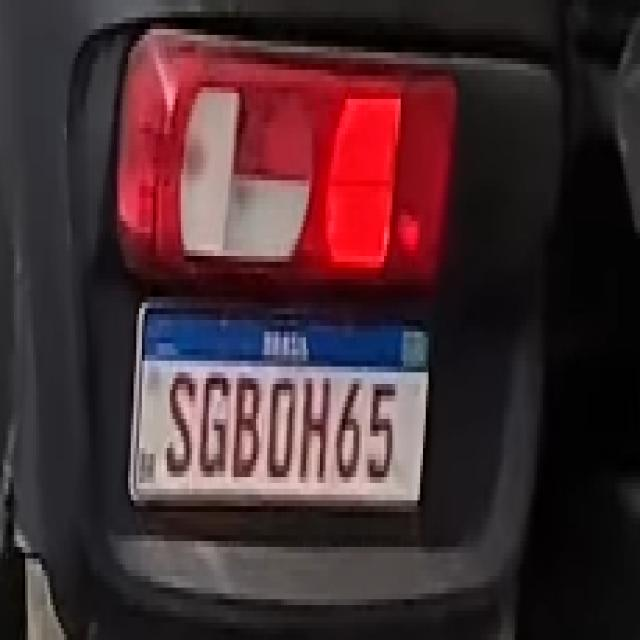Placa_mercosul_carro: (128, 304, 430, 511)
